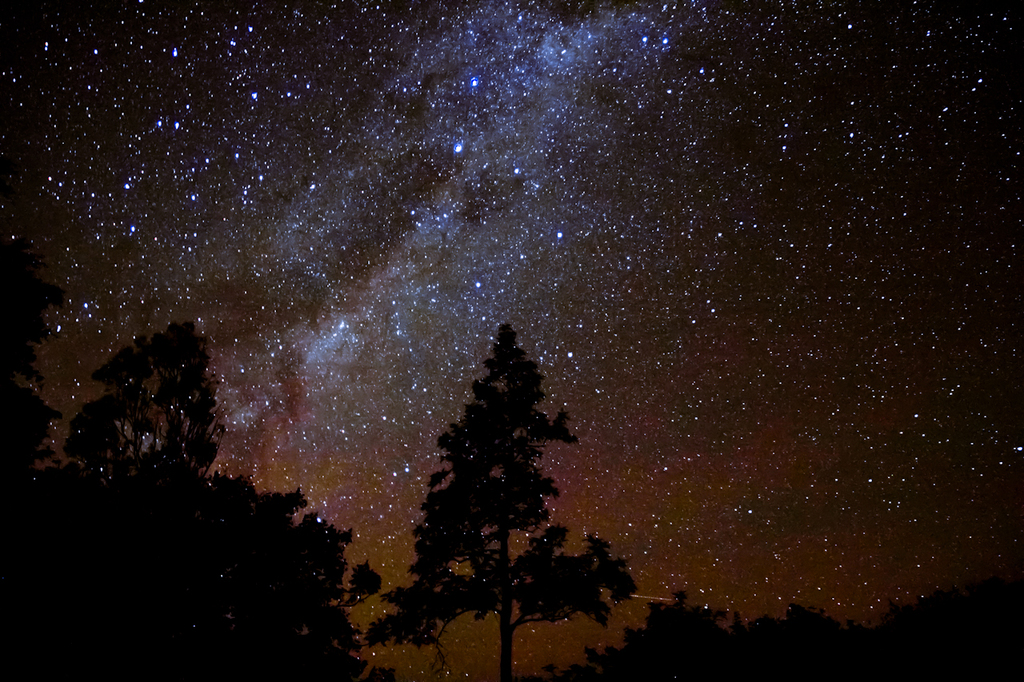Tree: (0, 236, 1024, 681)
